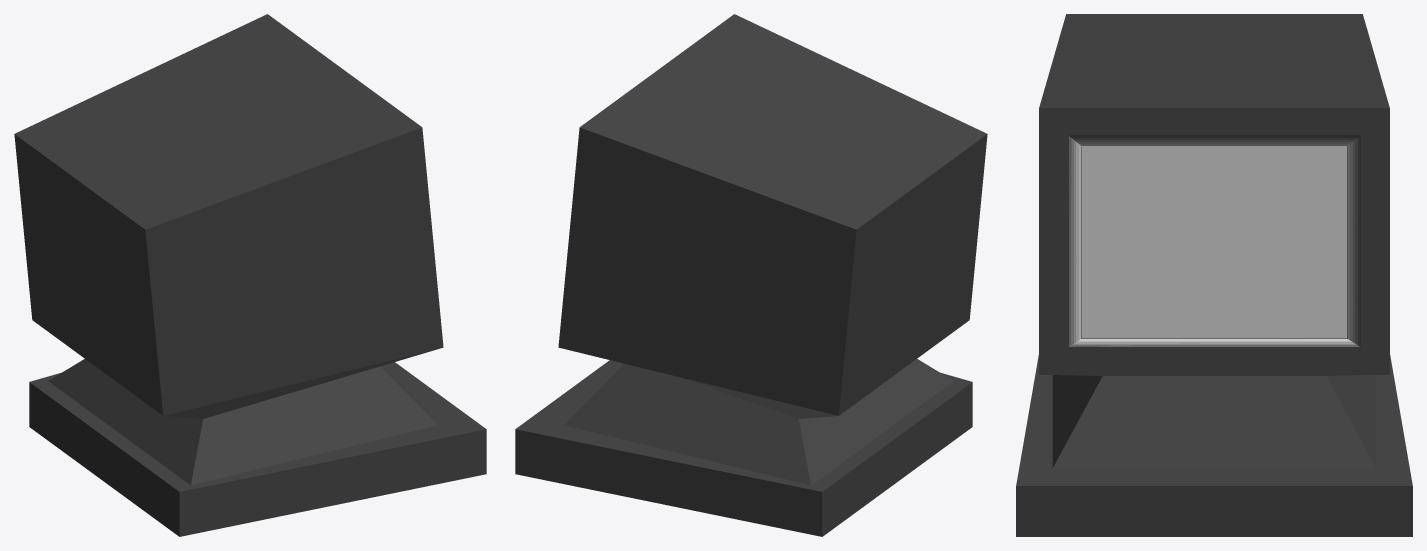
The model's file is Computer.fbx.
3 views of the same model, side by side, from view 1: azimuth 30°, elevation 25°; view 2: azimuth 150°, elevation 25°; view 3: azimuth 270°, elevation 25° (orthographic). The views are drawn at different scales.
Visible parts, largest first — view 1: Computer; view 2: Computer; view 3: Computer.
Part boxes in pixels (x1,y1,x2,y2): Computer: (14,14,486,536); Computer: (515,14,987,536); Computer: (1016,14,1412,536).
Size of the model in its own units: 31.23 by 32.97 by 29.7.
1 material, 1 textured.
